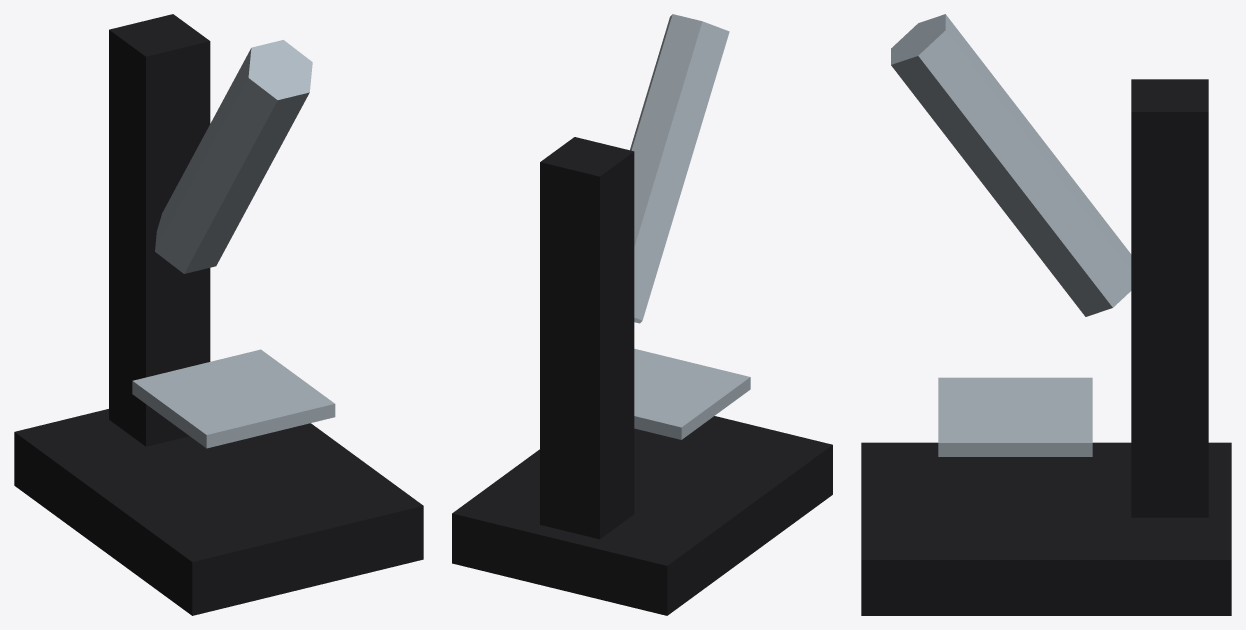
Rendered from GH_Microscope_01.glb.
3 renders of one model, left to right at view 1: azimuth 30°, elevation 25°; view 2: azimuth 150°, elevation 25°; view 3: azimuth 270°, elevation 25°, orthographic. The views are drawn at different scales.
Parts seen in each view (by area): view 1: GH_Microscope_01; view 2: GH_Microscope_01; view 3: GH_Microscope_01.
Part boxes in pixels (left/top/right/bottom): GH_Microscope_01: left=14, top=14, right=423, bottom=615; GH_Microscope_01: left=452, top=14, right=832, bottom=615; GH_Microscope_01: left=861, top=14, right=1231, bottom=615.
Size of the model in its own units: 0.18 by 0.3825 by 0.24.
Materials: 1 (1 with a texture image).
